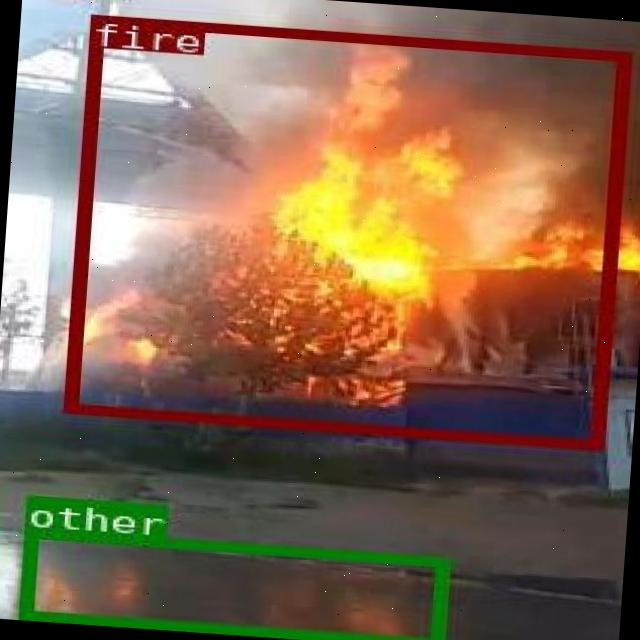fire: (62, 13, 628, 448)
